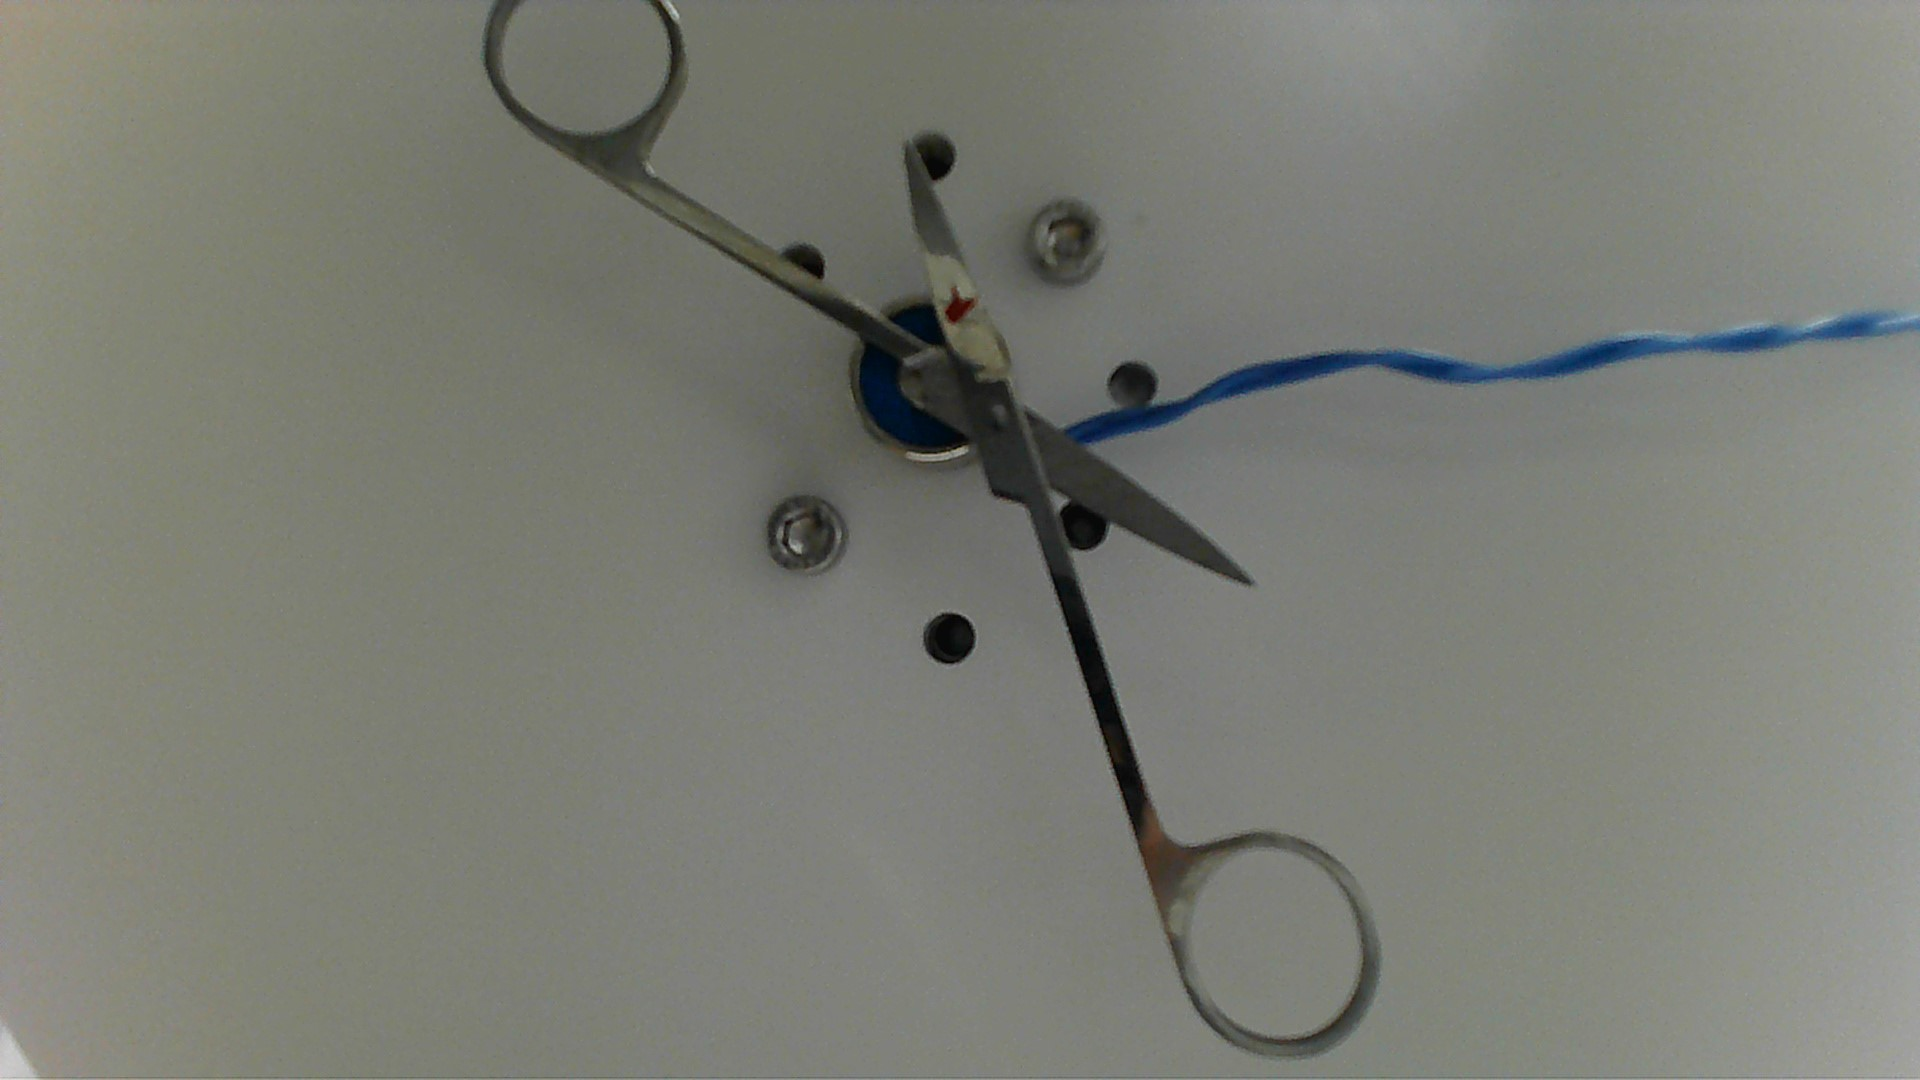Stain: (936, 278, 984, 334)
